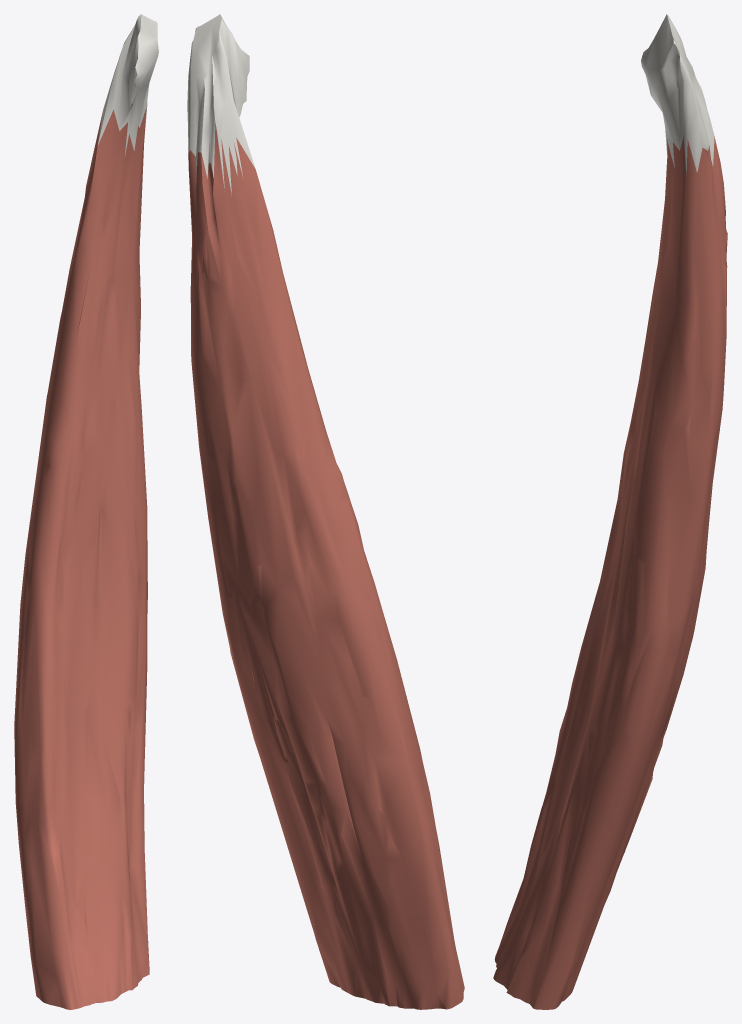
File: extenseur-doigts.glb
3 views of the same model, side by side, from view 1: azimuth 30°, elevation 25°; view 2: azimuth 150°, elevation 25°; view 3: azimuth 270°, elevation 25° (orthographic). The views are drawn at different scales.
Visible parts, largest first — view 1: extenseur-doigts; view 2: extenseur-doigts; view 3: extenseur-doigts.
Boxes of the visible parts, x1,y1,x2,y2 form: extenseur-doigts: (14,14,158,1009); extenseur-doigts: (187,14,464,1009); extenseur-doigts: (493,14,727,1009).
Bounding box in the file's own units: 0.0317 × 0.152 × 0.0316.
